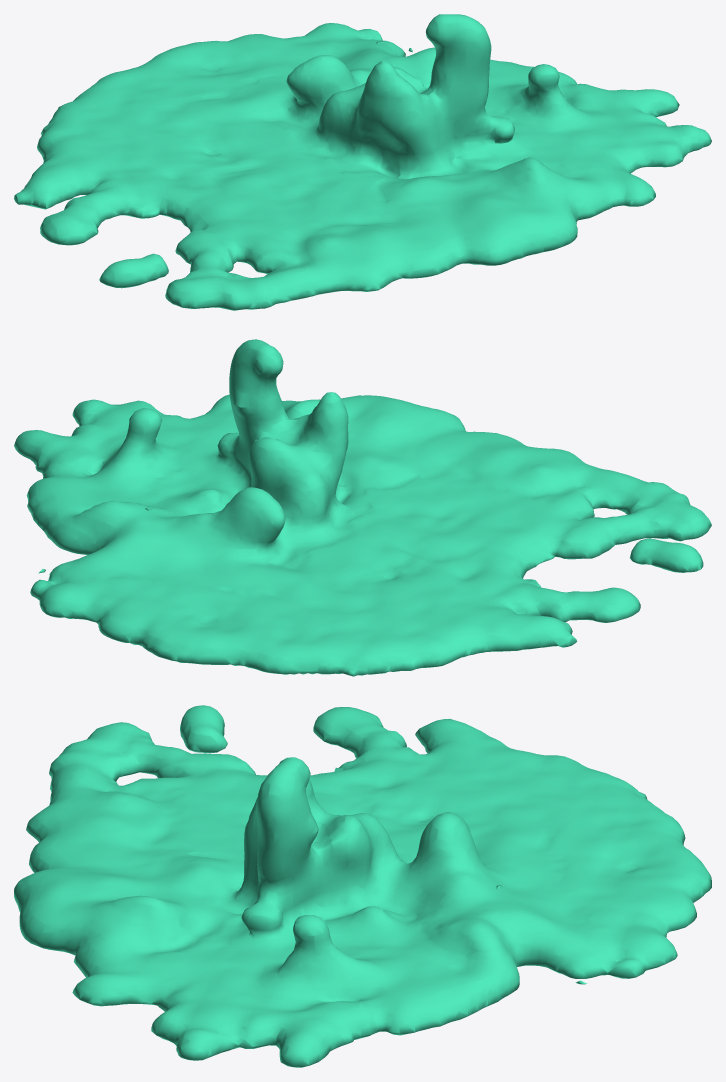
The picture shows the model from 3 angles, top to bottom: view 1: azimuth 30°, elevation 25°; view 2: azimuth 150°, elevation 25°; view 3: azimuth 270°, elevation 25°; orthographic projection. The views are drawn at different scales.
Visible parts, largest first — view 1: Liquid_Domain; view 2: Liquid_Domain; view 3: Liquid_Domain.
Part boxes in pixels (x1,y1,x2,y2): Liquid_Domain: (14, 14, 711, 310); Liquid_Domain: (14, 339, 711, 676); Liquid_Domain: (14, 705, 711, 1067).
Bounding box in the file's own units: 16.12 × 3.83 × 13.5.
